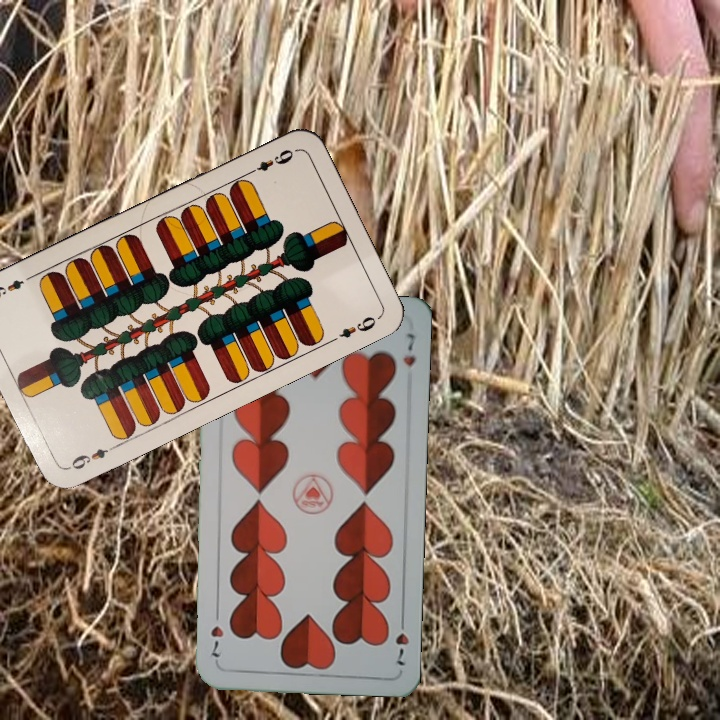E9: (243, 145, 299, 178), (64, 441, 119, 472)
H7: (392, 611, 412, 669)
